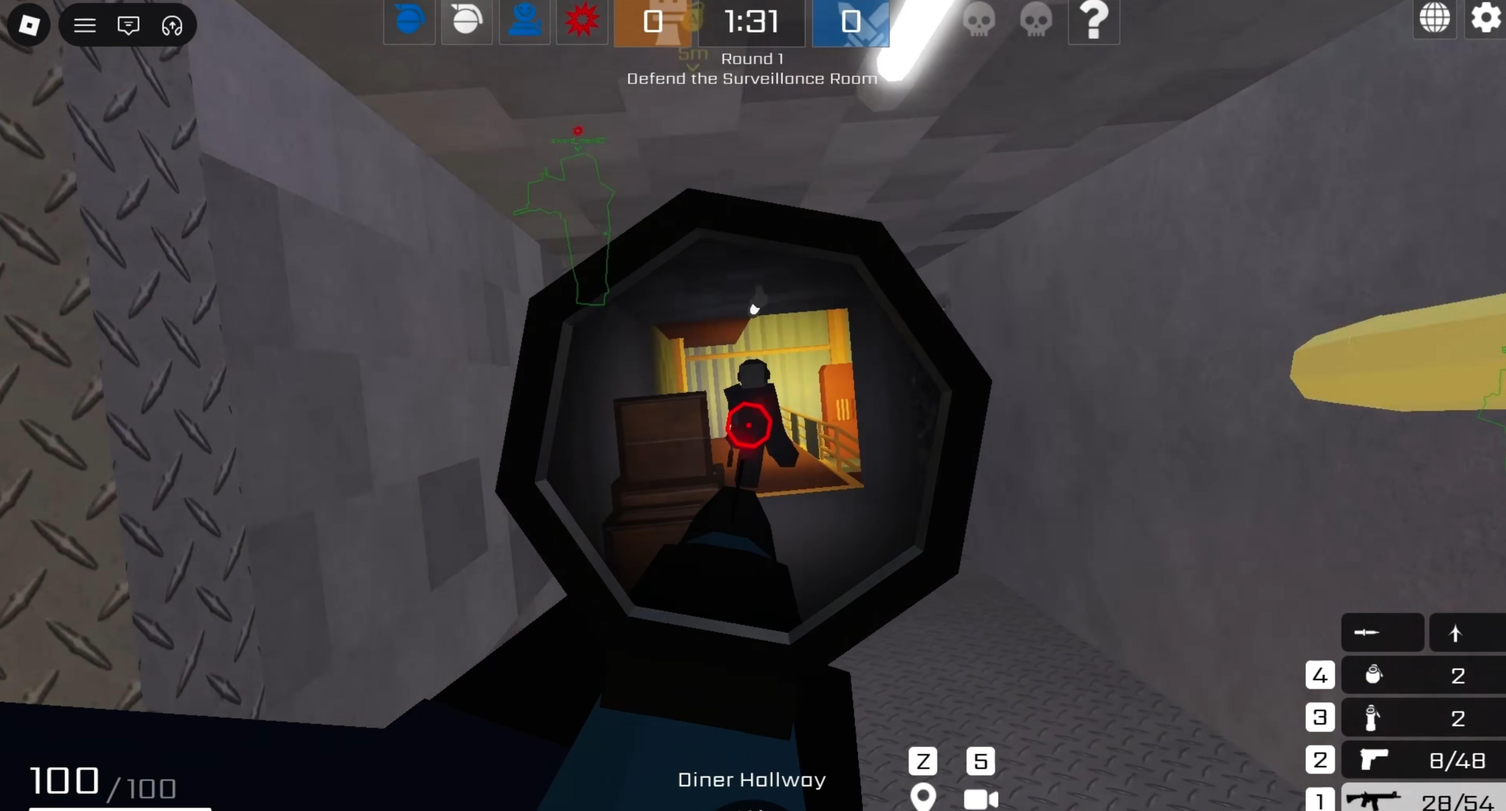enemy: (721, 356, 802, 494)
